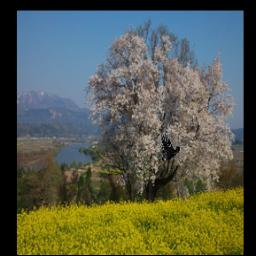Crow: (158, 134, 181, 161)
